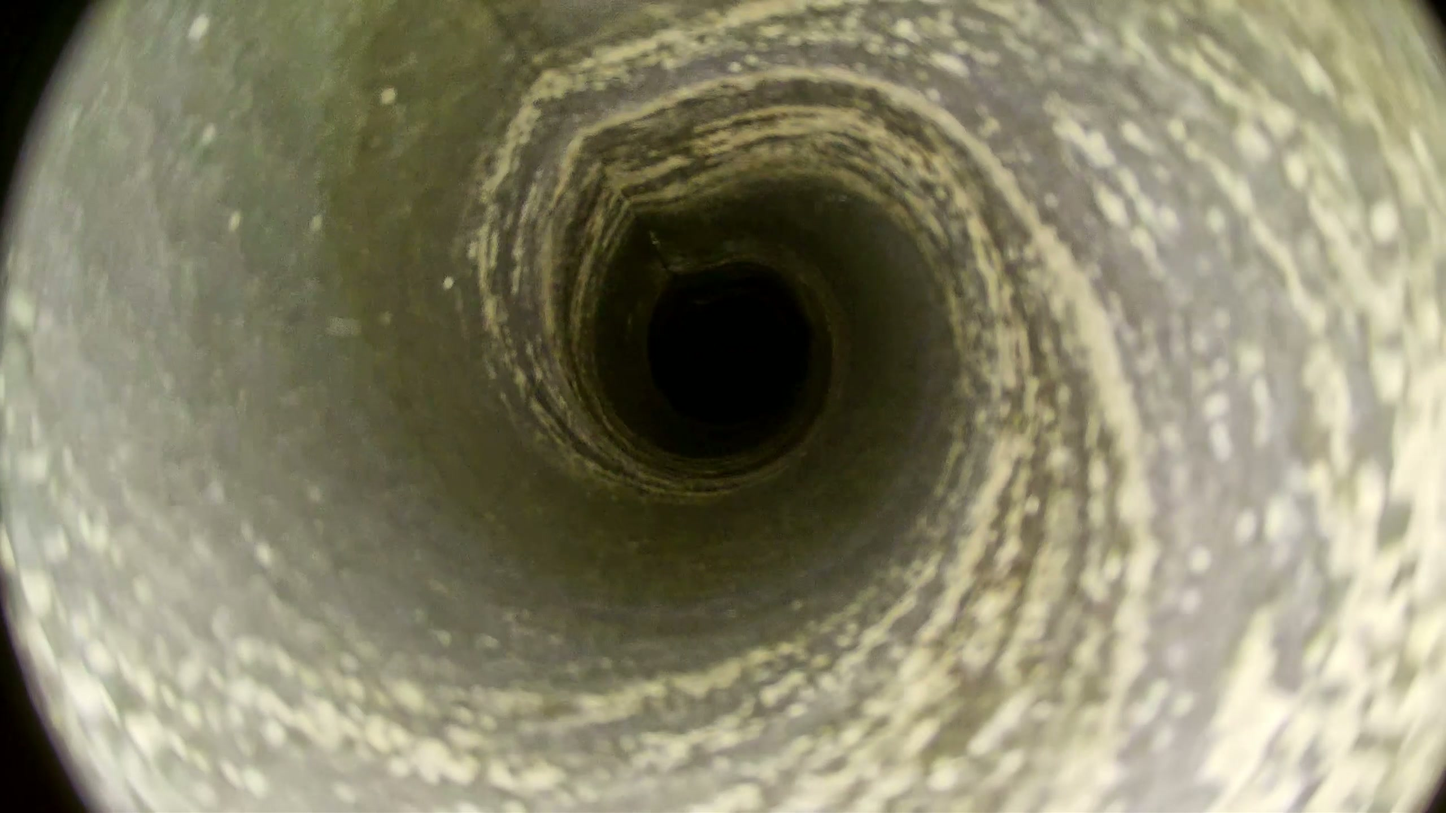hole: (651, 274, 807, 423)
